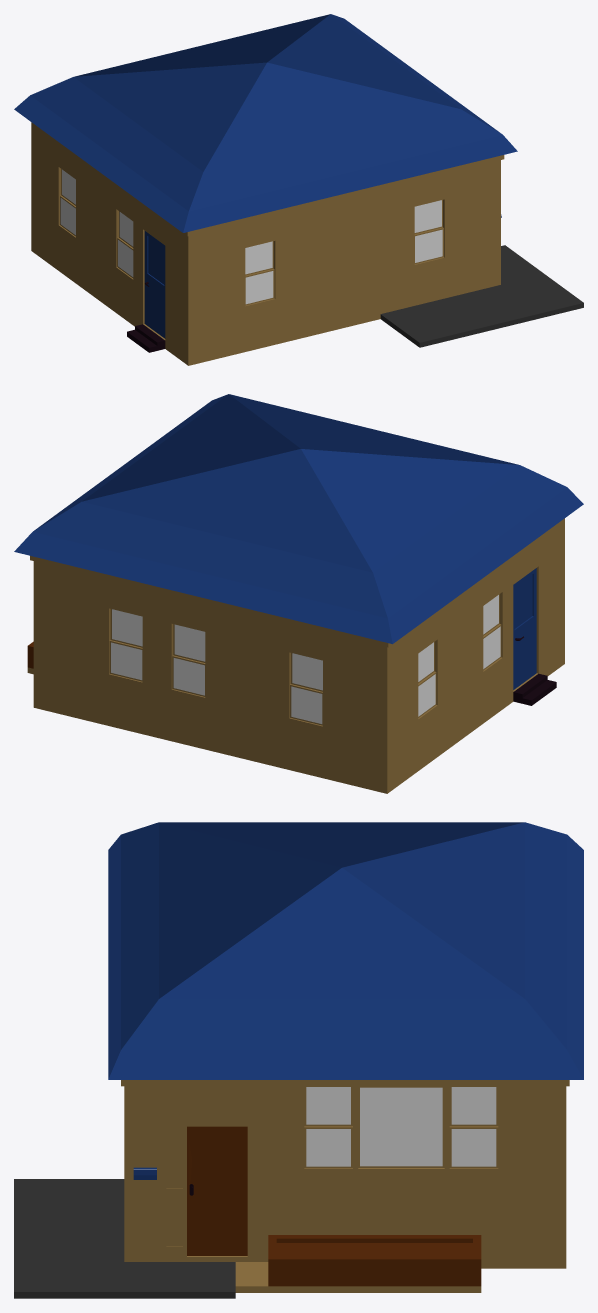
The model's file is house7.FBX.
3 views of the same model, one above another, from view 1: azimuth 30°, elevation 25°; view 2: azimuth 150°, elevation 25°; view 3: azimuth 270°, elevation 25° (orthographic). The views are drawn at different scales.
Visible parts, largest first — view 1: Building_F; view 2: Building_F; view 3: Building_F.
Boxes of the visible parts, box(x1,y1,x2,y2) form: Building_F: box(14, 14, 583, 365); Building_F: box(14, 394, 583, 793); Building_F: box(14, 822, 583, 1298).
Size of the model in its own units: 821 by 440 by 774.
